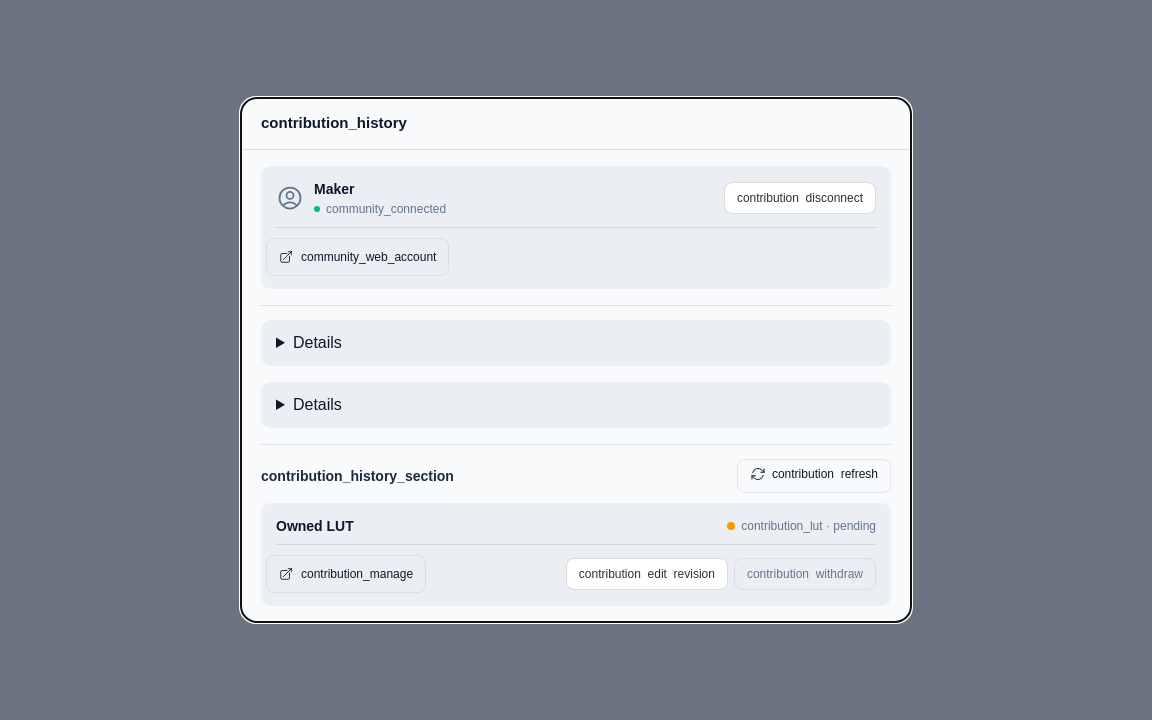
withdraws a pending review only after confirmation and reloads the account history
Click the button "contribution_withdraw" at (805, 574), box x1=734 y1=558 x2=876 y2=590
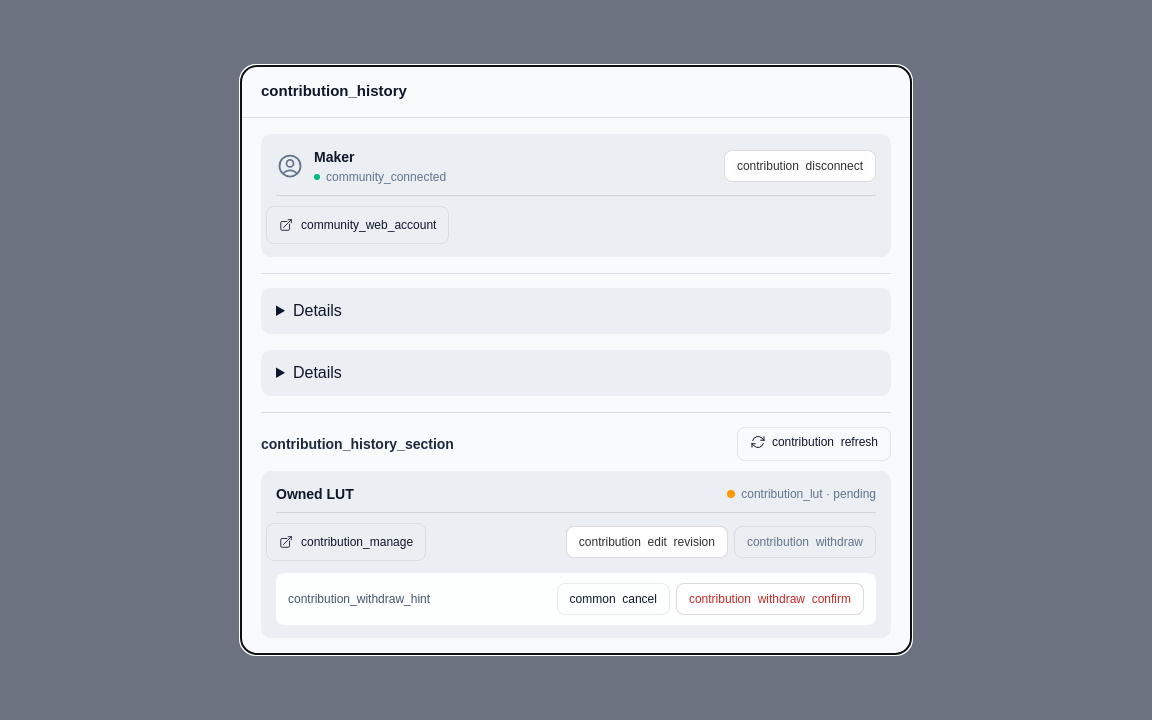
Click the button "contribution_withdraw_confirm" at (770, 599), box x1=676 y1=583 x2=864 y2=615
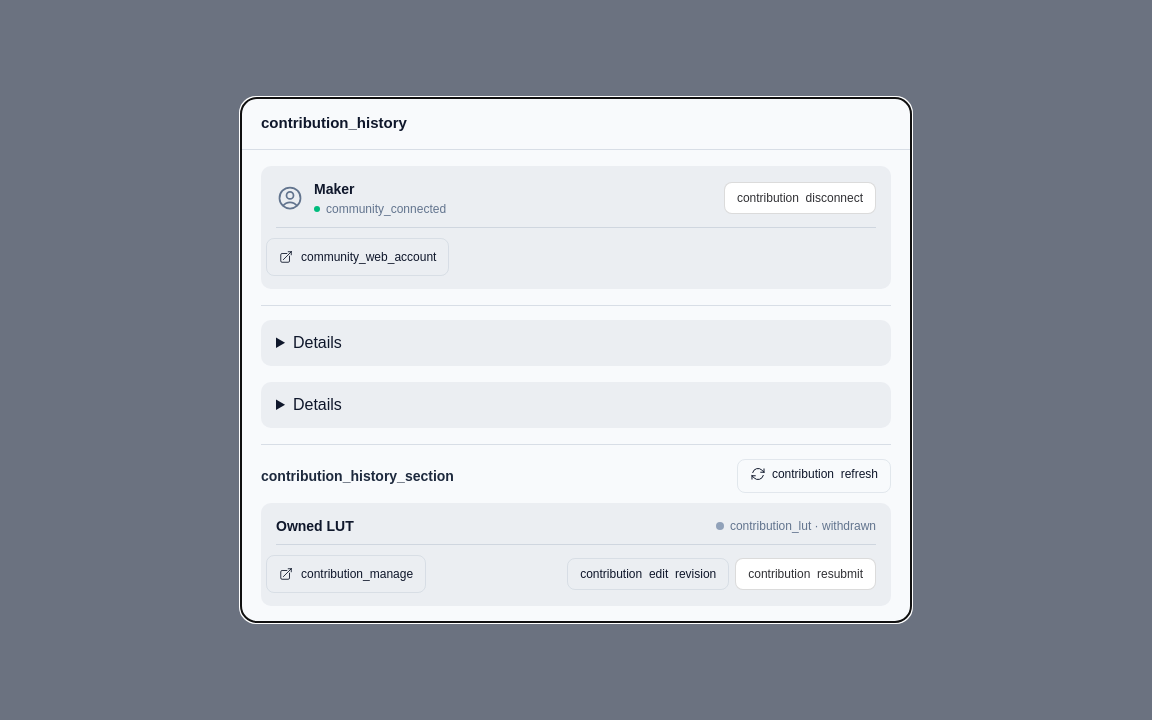
Expected: the text "contribution_lut · withdrawn" is shown, x1=730 y1=518 x2=876 y2=534
Expected: the button "contribution_resubmit" is enabled, x1=735 y1=558 x2=876 y2=590
